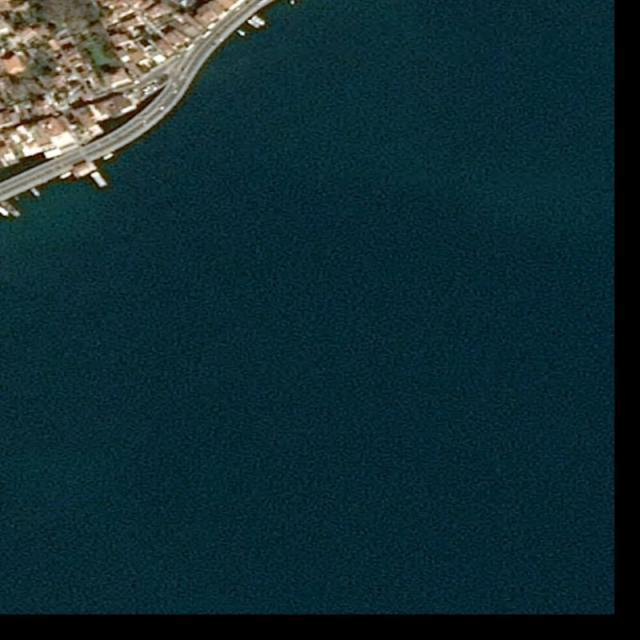ship: (250, 14, 266, 27), (28, 187, 42, 199), (100, 152, 114, 164), (245, 19, 260, 30), (59, 172, 73, 181), (236, 29, 247, 38), (289, 0, 296, 6)
